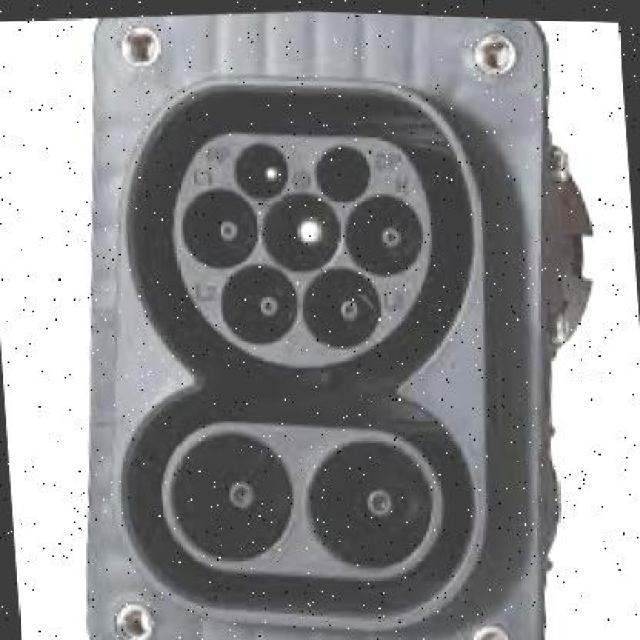CCS2: (114, 104, 493, 616)
